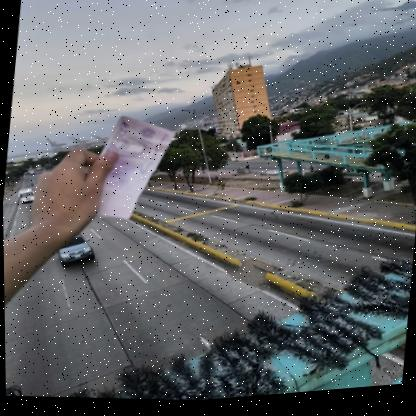one_hundred-back-vef: (88, 111, 178, 227)
